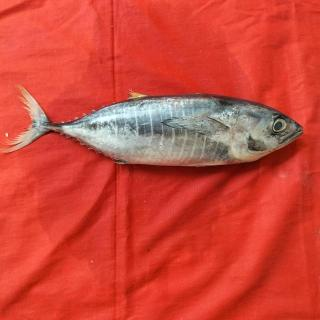Ikan: (12, 72, 314, 180)
